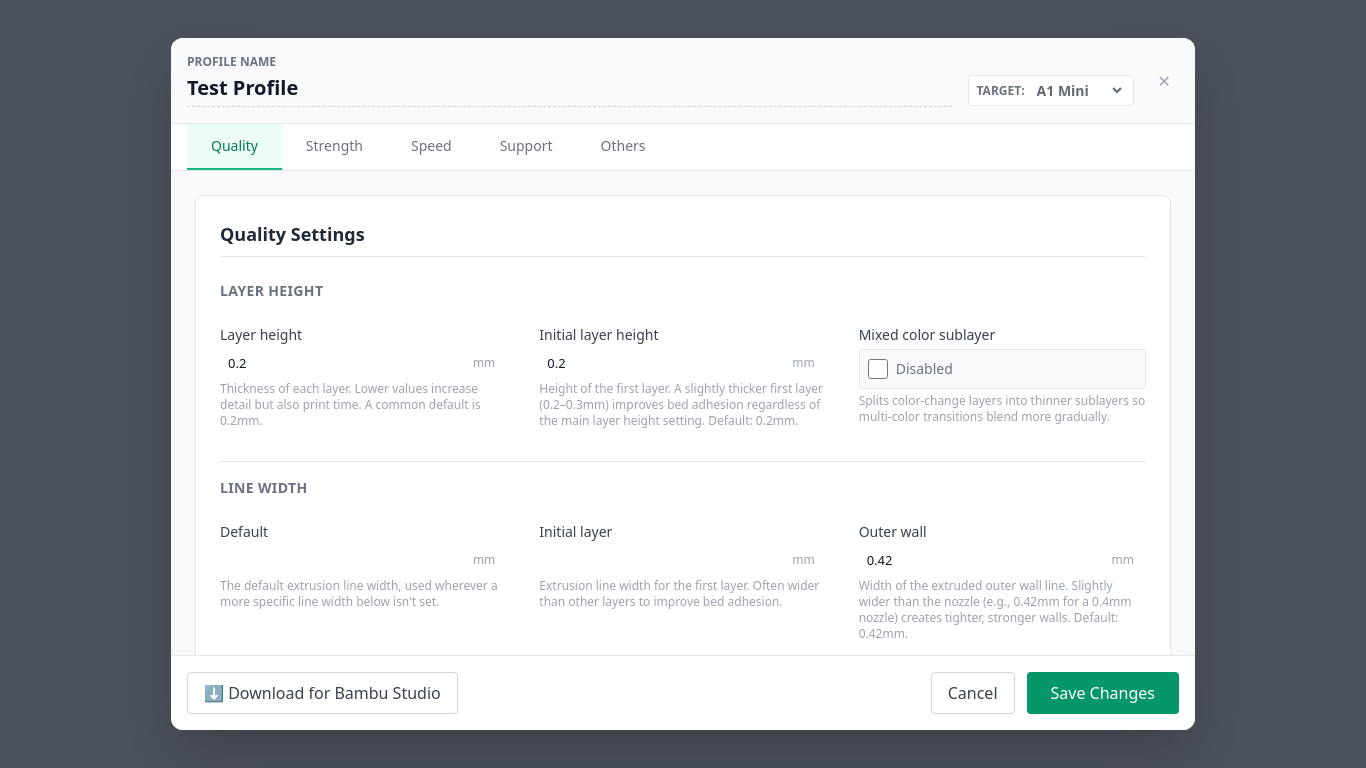
Scenario: EditorModal — profile type › switching to Strength tab shows strength-specific fields
Step 1. Click the button "Strength" → (334, 147), box [282,124,387,170]
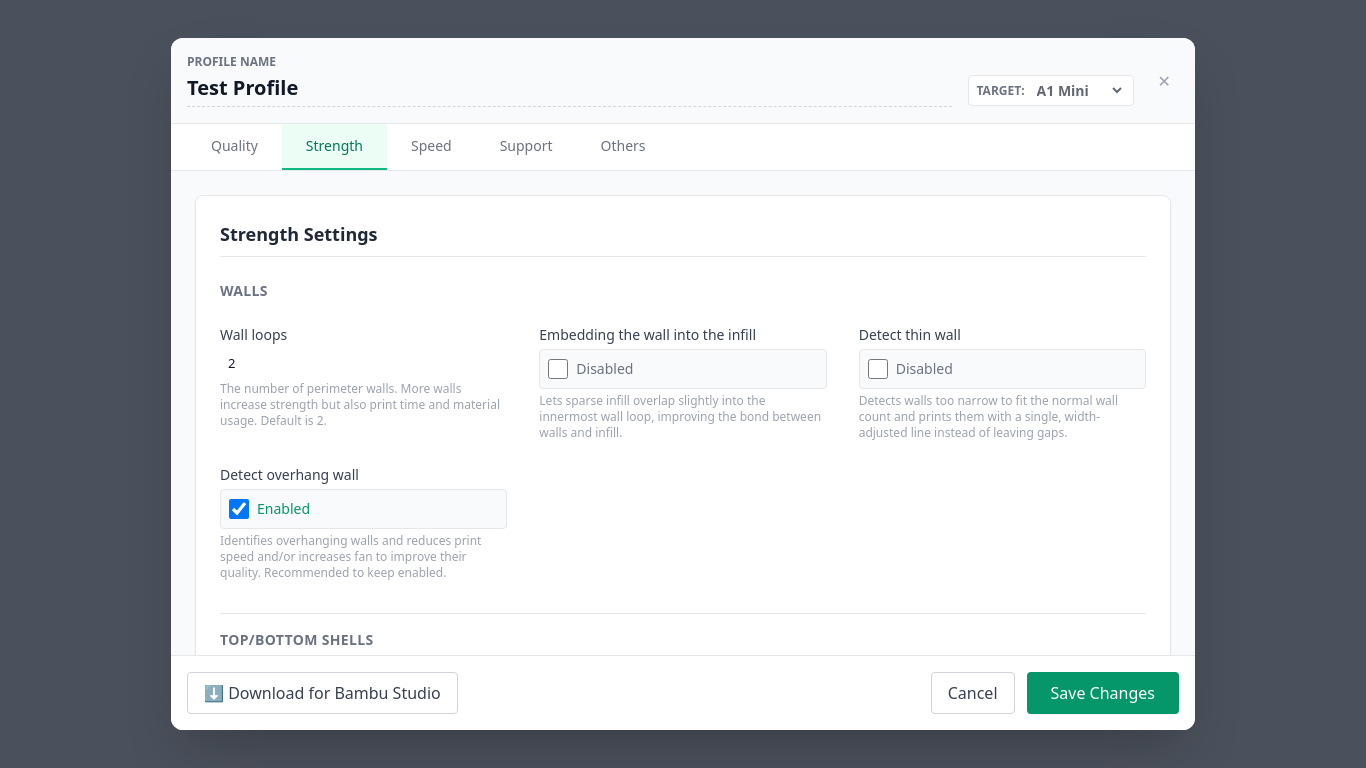
Expected: the text "Wall loops" is shown, [220,325,287,344]
Expected: the text "Top/bottom shells" is shown, [220,630,374,649]
